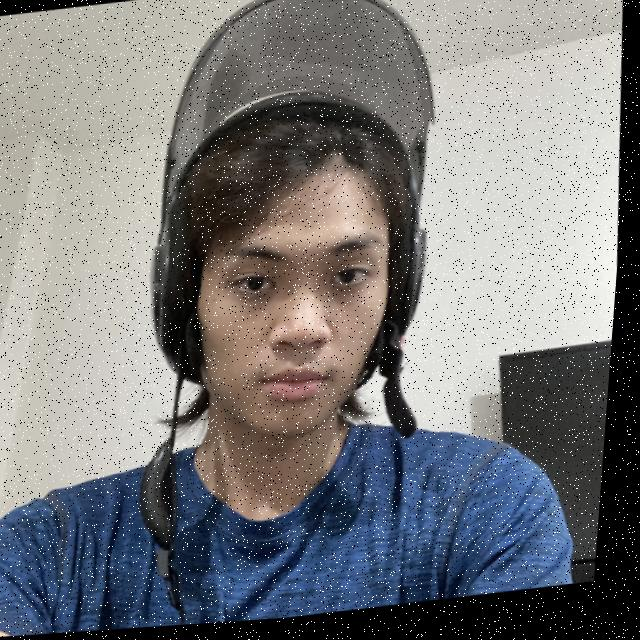illegal_helmet: (108, 0, 476, 632)
